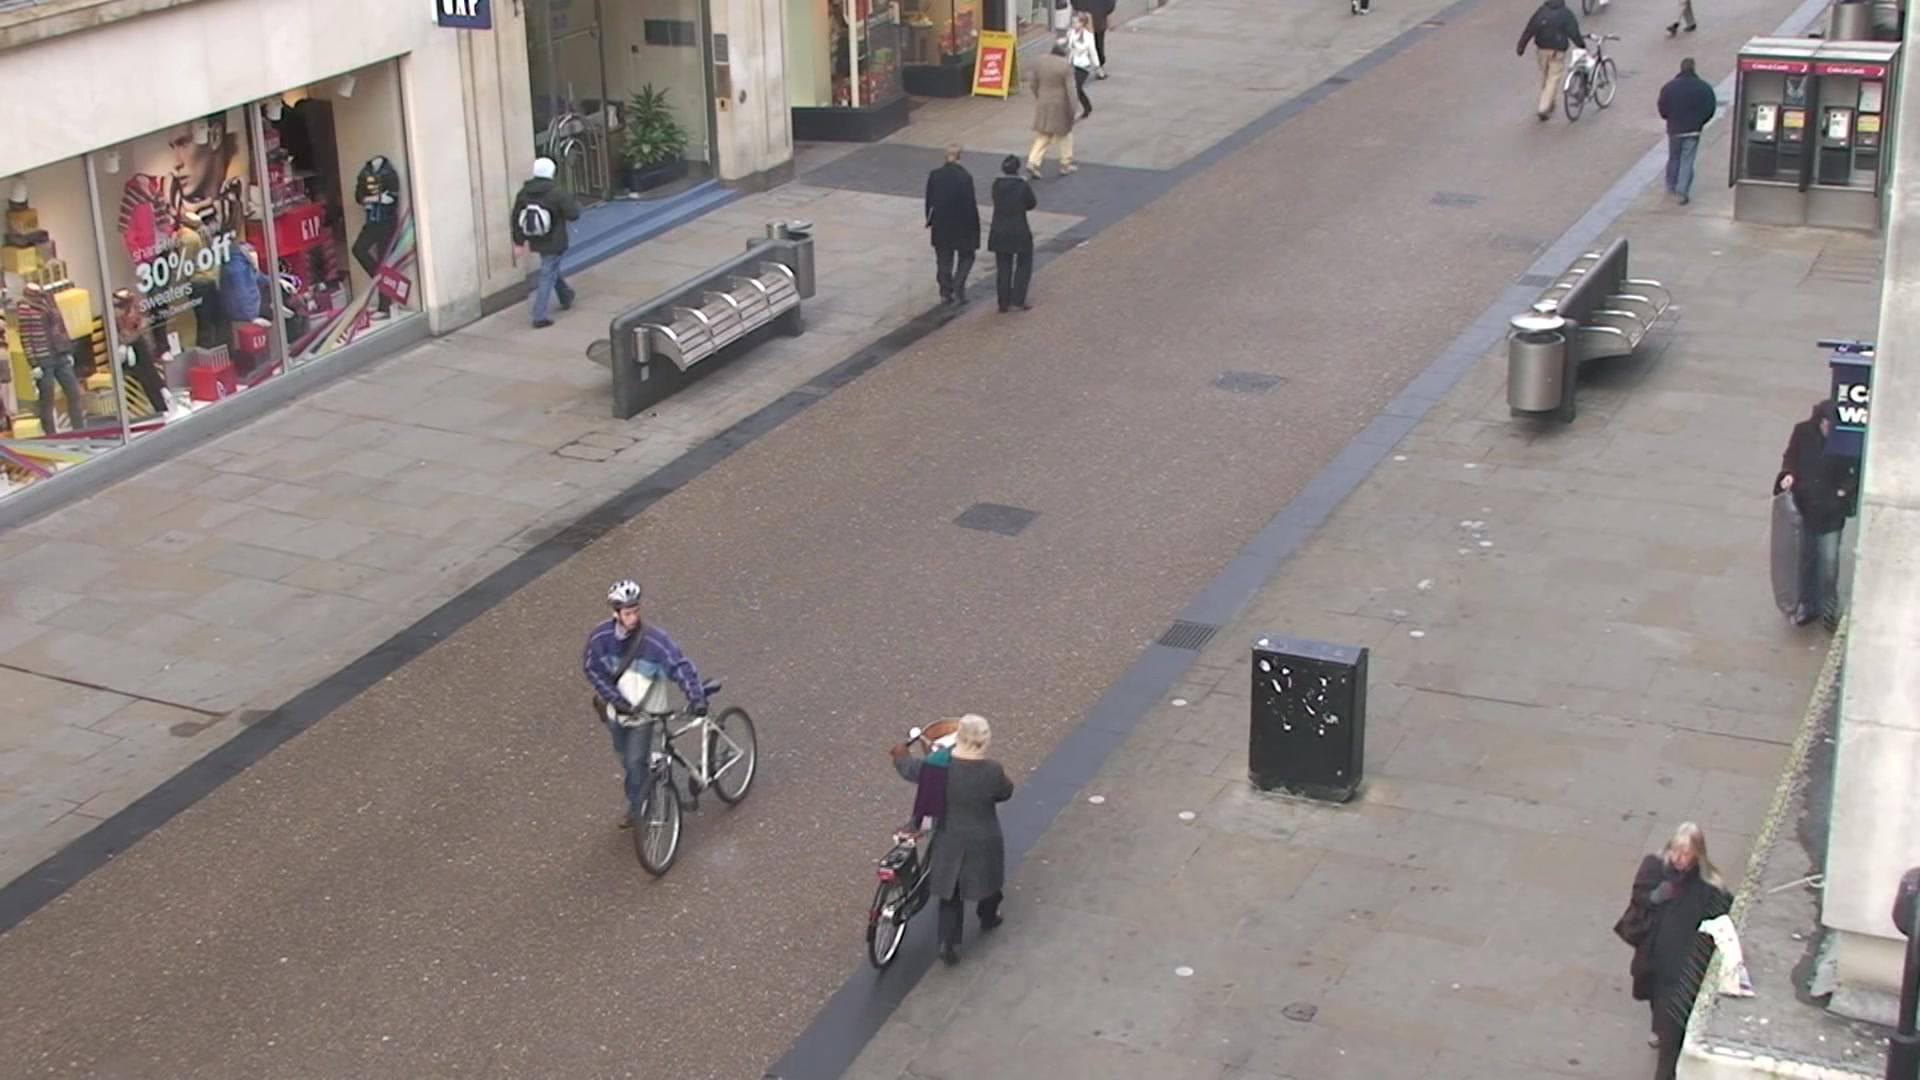person: (891, 712, 1015, 967), (584, 579, 707, 834), (1616, 821, 1737, 1053), (510, 154, 577, 333), (921, 142, 982, 311), (1654, 56, 1718, 203), (986, 153, 1038, 313), (1025, 36, 1080, 180)
